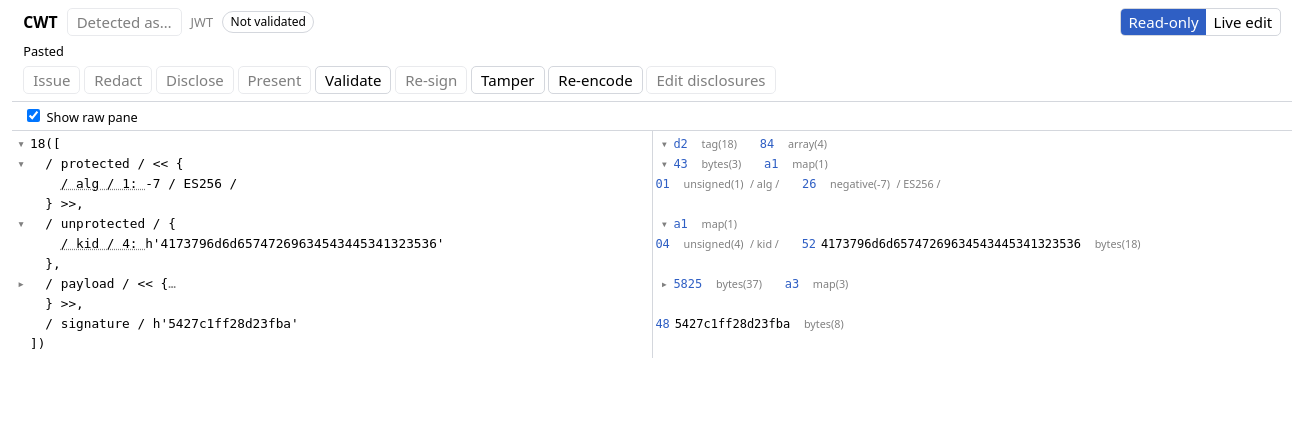
Test: tree sync (COSE) › expanding in the raw pane expands the main pane
Click the button "▸" next to "5825": (664, 284) x1=655 y1=274 x2=673 y2=294
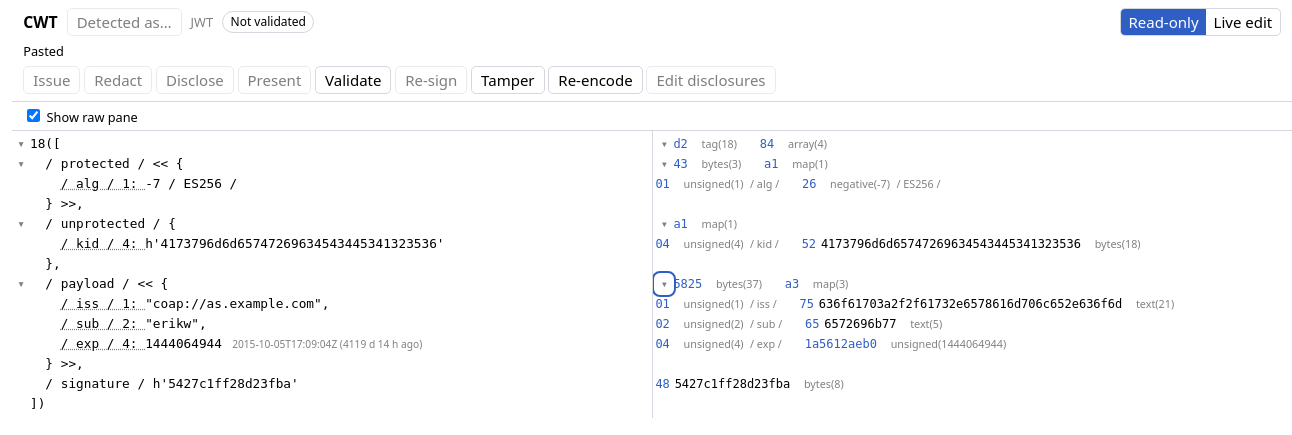
Expected: the text "/ iss / 1: \"coap://as.example.com\"," is shown, x1=30 y1=296 x2=329 y2=311
